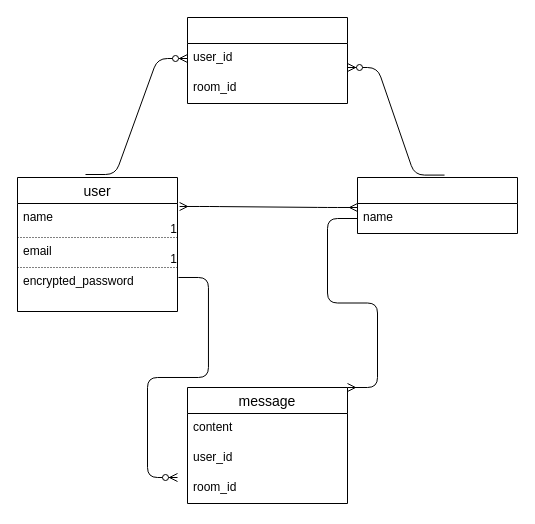
Some shapes in this 535 by 524 pixel diagram are drawn without their labels. Here are the shapes that lost their labels. From the top down, the box of each, then its label:
(186, 16, 348, 104): room_users
(356, 176, 518, 234): room
